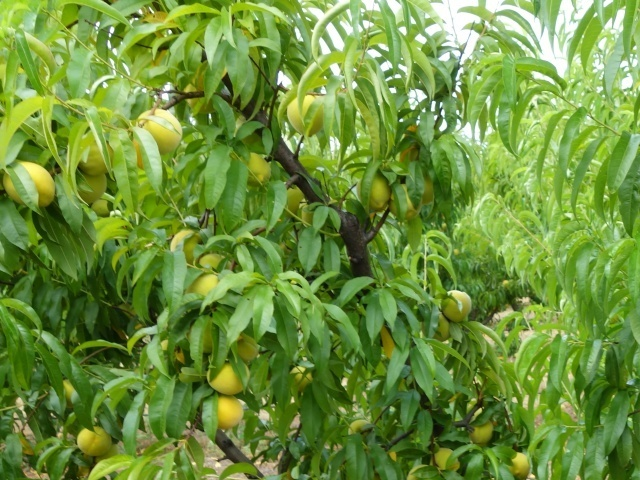peach: (2, 154, 58, 214), (132, 103, 186, 157), (281, 90, 330, 143), (203, 355, 254, 398), (352, 167, 397, 215), (203, 388, 249, 434), (166, 223, 212, 268), (72, 137, 116, 182), (380, 180, 426, 222), (234, 147, 278, 190), (182, 269, 230, 306), (68, 164, 111, 205), (418, 305, 457, 345), (74, 422, 114, 460), (437, 284, 474, 325), (426, 442, 464, 478), (193, 249, 232, 282), (285, 360, 317, 394), (503, 447, 537, 479), (279, 182, 309, 218), (465, 415, 497, 446), (342, 415, 374, 443), (87, 195, 114, 222)
